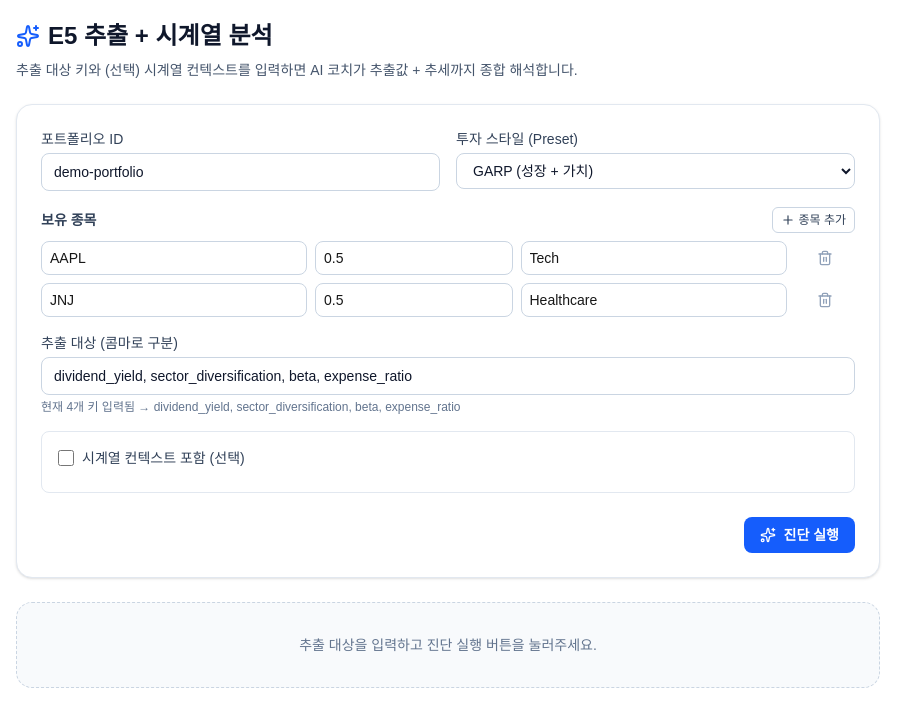
Test: E5 coach page (E5CoachContent) › time_series_context 토글 off (default) → payload에 null 전달
The image size is (897, 705).
토글은 default off — 그대로 제출
Click the button "진단 실행": (799, 535) [744, 517, 855, 553]
(page scrolled)
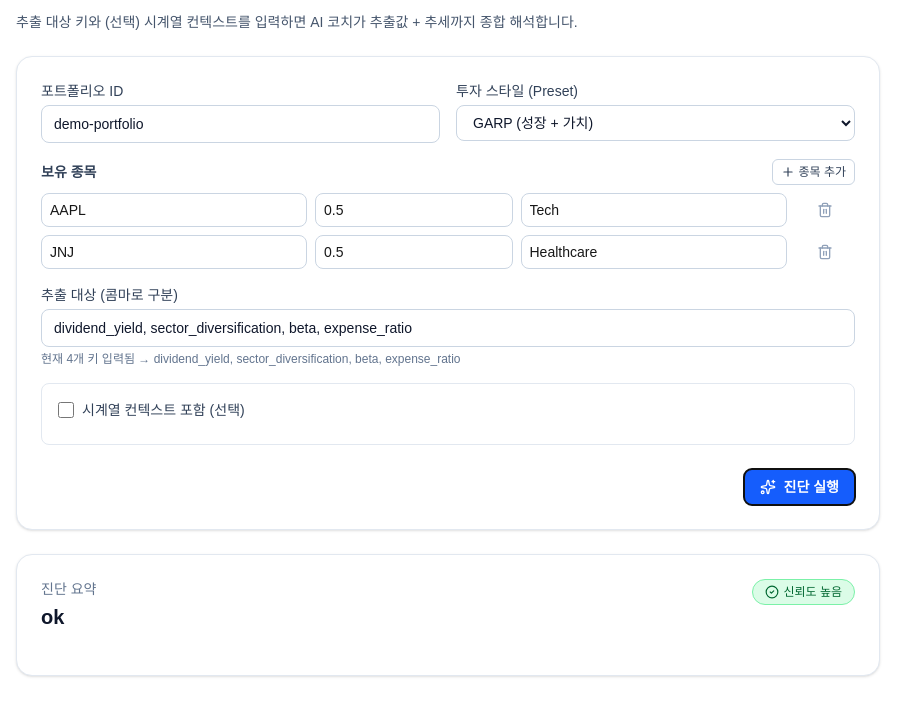
Expected: the element with test id "commentary-card" is shown, [16, 554, 880, 676]
